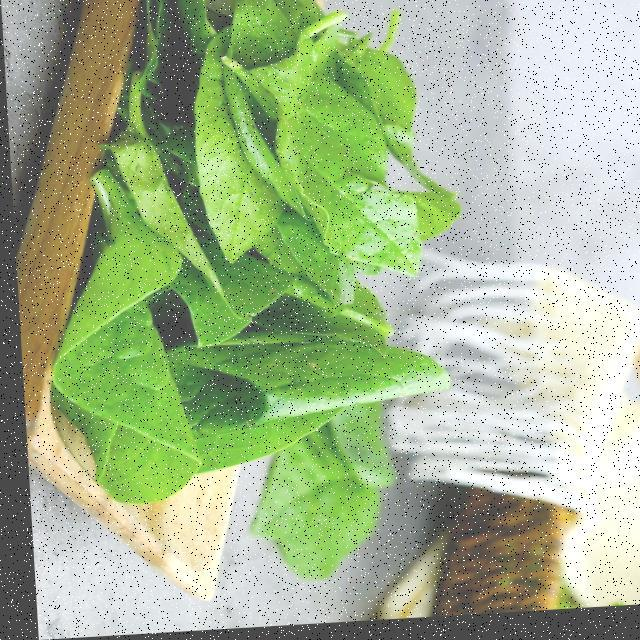Spinach: (10, 0, 504, 574)
